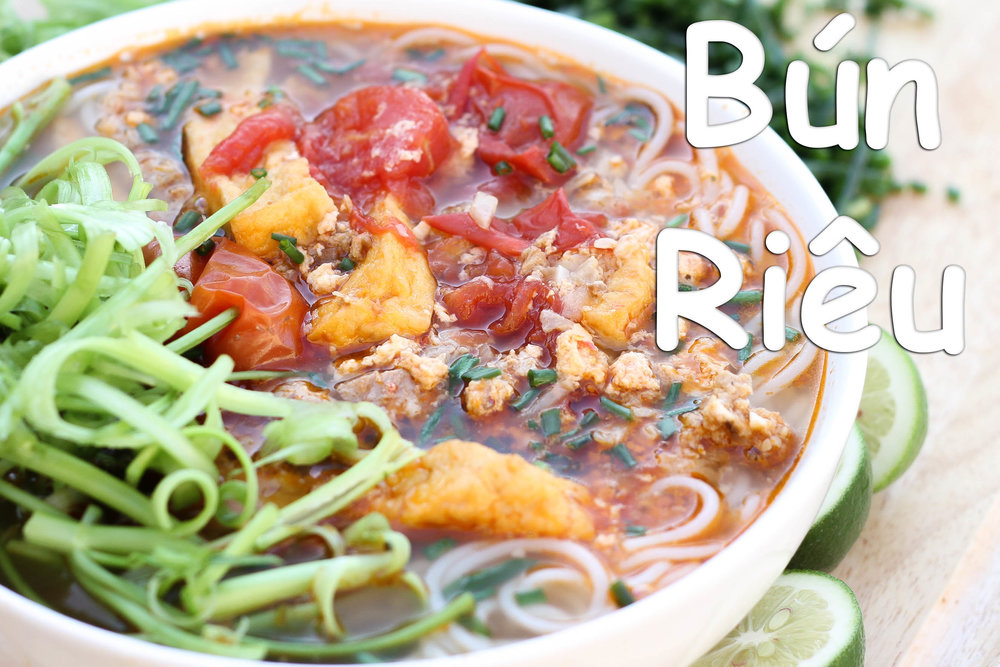rieu: (441, 336, 609, 423)
tofu: (181, 107, 334, 245), (312, 205, 440, 344), (388, 442, 583, 533)
tomato: (458, 187, 595, 317), (441, 64, 580, 169), (310, 81, 453, 182)
